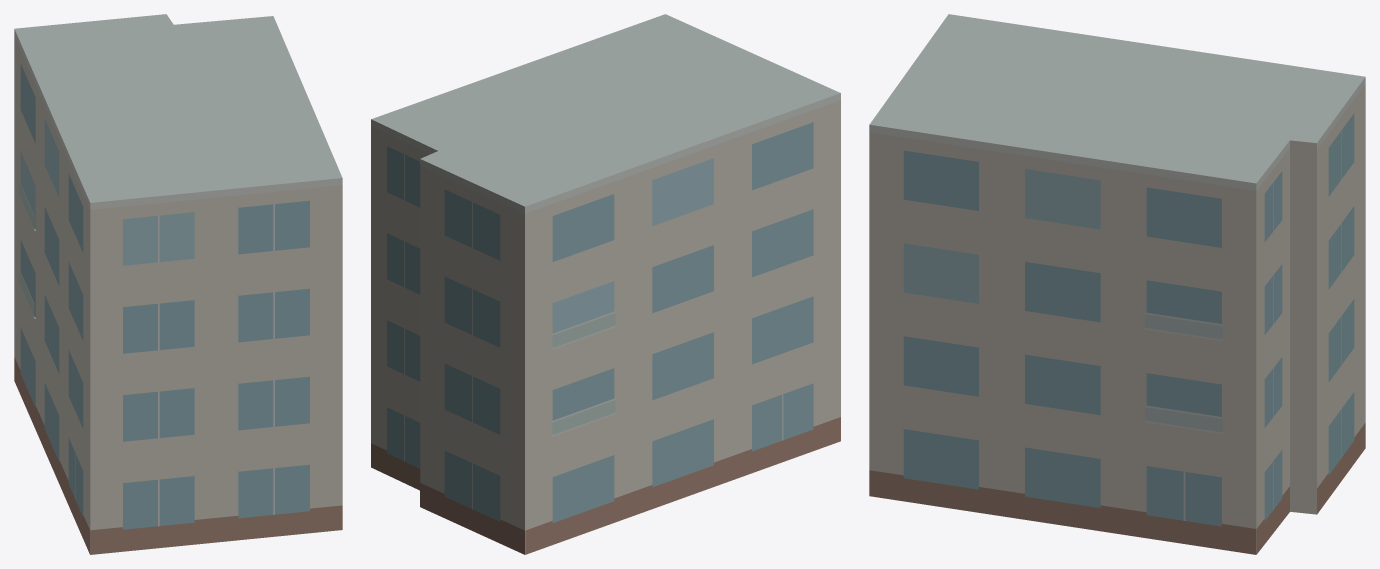
File: survey-upis-32733212.glb
3 views of the same model, side by side, from view 1: azimuth 30°, elevation 25°; view 2: azimuth 150°, elevation 25°; view 3: azimuth 270°, elevation 25° (orthographic). The views are drawn at different scales.
Visible parts, largest first — view 1: survey-upis-32733212.tmp; view 2: survey-upis-32733212.tmp; view 3: survey-upis-32733212.tmp.
Part boxes in pixels (box(x1,y1,x2,y2)): survey-upis-32733212.tmp: box(14, 14, 342, 554); survey-upis-32733212.tmp: box(371, 14, 840, 554); survey-upis-32733212.tmp: box(869, 14, 1365, 554).
Bounding box in the file's own units: 11.95 × 12.2 × 14.78.
